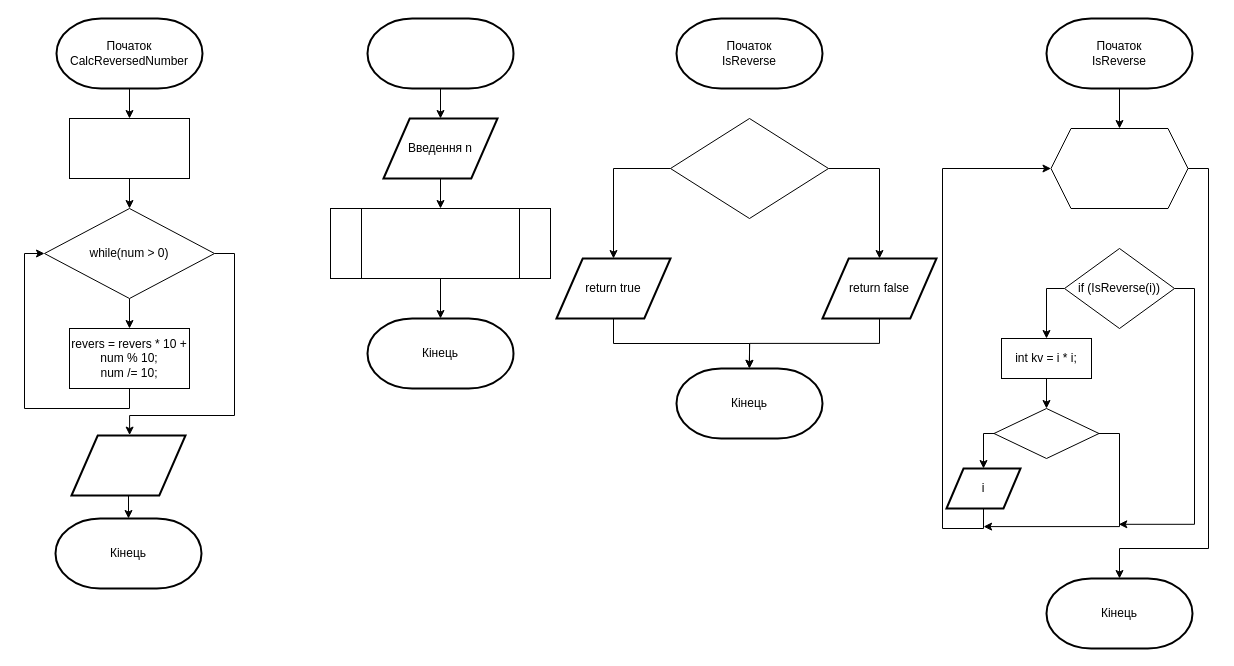
This 1234x666 diagram has some shape labels left out. The centre of each missing label's shape, as x and y in pixels:
"for (int i = 1; i < n; i++)" belongs at (1119,168).
"if (IsReverse(kv))" belongs at (1046,433).
"if num == CalcReversedNumber(num)" belongs at (749,168).
"int revers = 0;" belongs at (129,148).
"PrintAllRequiredNumbers(n);" belongs at (440,243).
"return revers;" belongs at (128,465).
"Початок Main" belongs at (440,53).
